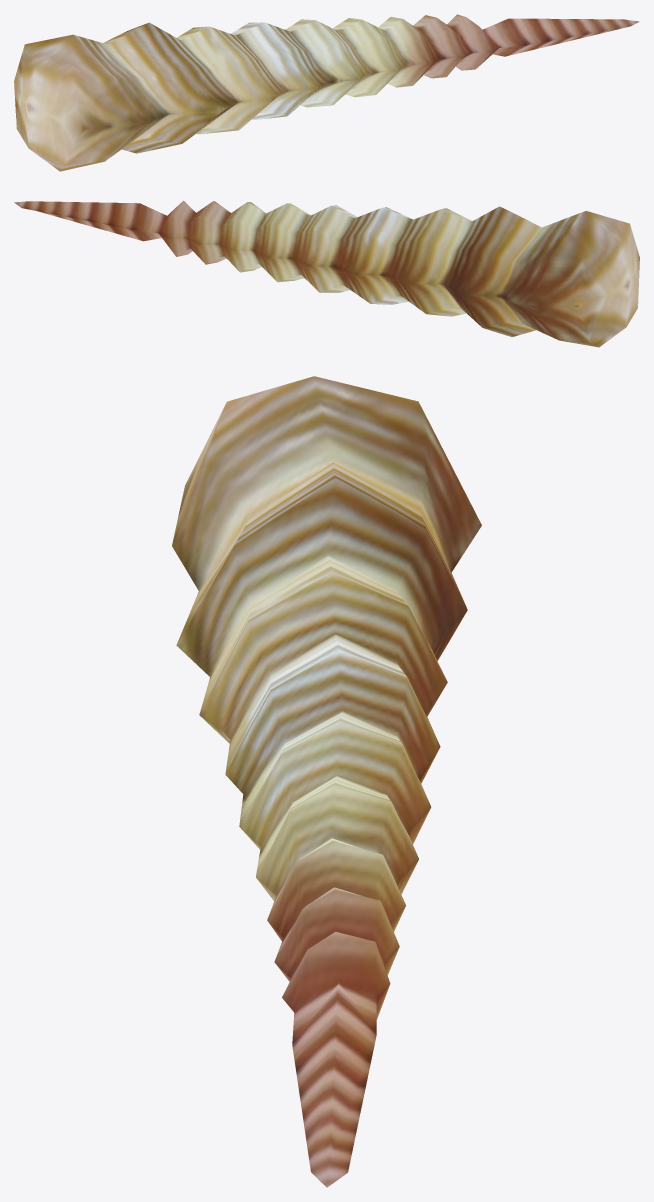
Rendered from SeaShell-12_LOD0_FattooCreater..glb.
3 renders of one model, top to bottom at view 1: azimuth 30°, elevation 25°; view 2: azimuth 150°, elevation 25°; view 3: azimuth 270°, elevation 25°, orthographic. The views are drawn at different scales.
Visible parts, largest first — view 1: SeaShell-12_high; view 2: SeaShell-12_high; view 3: SeaShell-12_high.
Boxes of the visible parts, x1,y1,x2,y2 form: SeaShell-12_high: (14, 14, 639, 171); SeaShell-12_high: (14, 200, 639, 347); SeaShell-12_high: (172, 376, 481, 1187).
Size of the model in its own units: 0.0291 by 0.00633 by 0.00638.
1 material, 1 textured.
